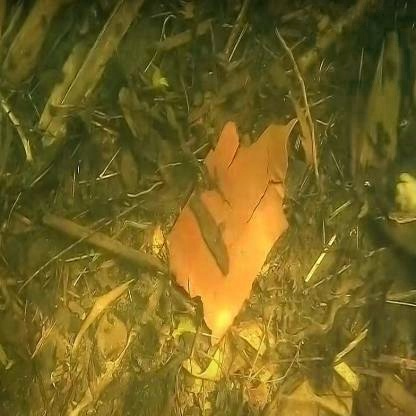misc: (166, 114, 273, 324)
